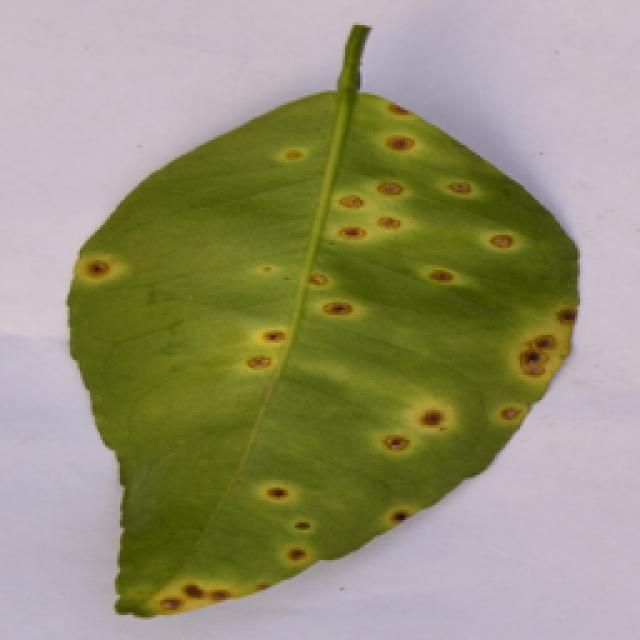canker: (71, 94, 574, 610)
